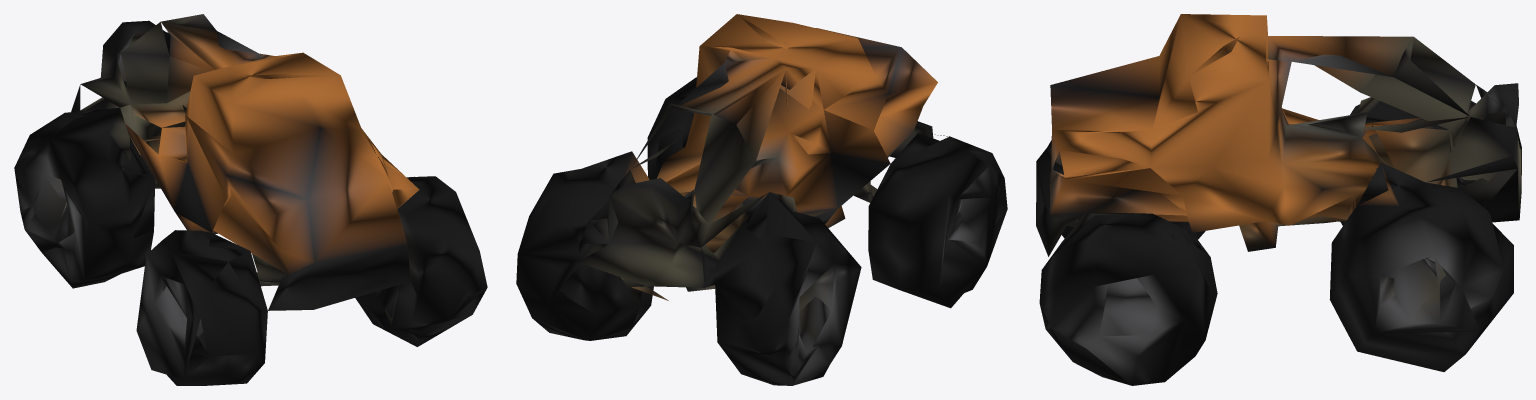
File: gen3d-monster-truck-lod1.glb
3 views of the same model, side by side, from view 1: azimuth 30°, elevation 25°; view 2: azimuth 150°, elevation 25°; view 3: azimuth 270°, elevation 25° (orthographic). The views are drawn at different scales.
Parts seen in each view (by area): view 1: part_0; view 2: part_0; view 3: part_0.
Part boxes in pixels (x1,y1,x2,y2): part_0: [14, 14, 487, 385]; part_0: [516, 14, 1007, 385]; part_0: [1036, 14, 1521, 385].
Bounding box in the file's own units: 1.18 × 0.981 × 1.58.
